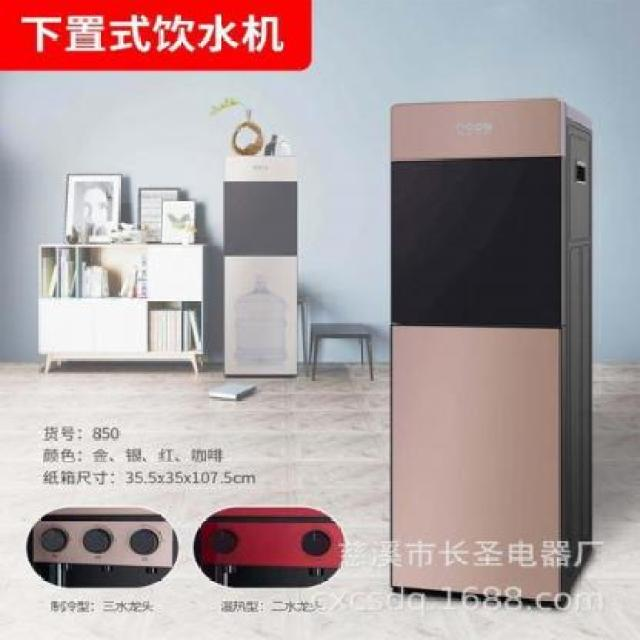cooler: (383, 95, 602, 607)
